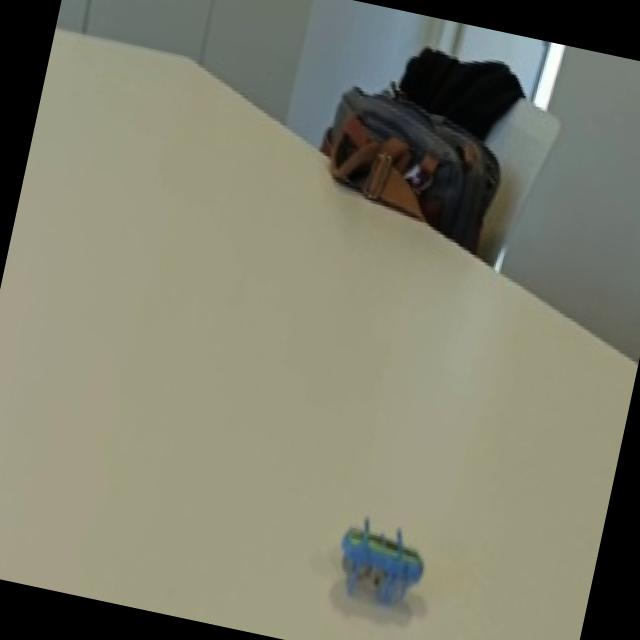3_NanoBug_Celeste: (308, 496, 441, 640)
